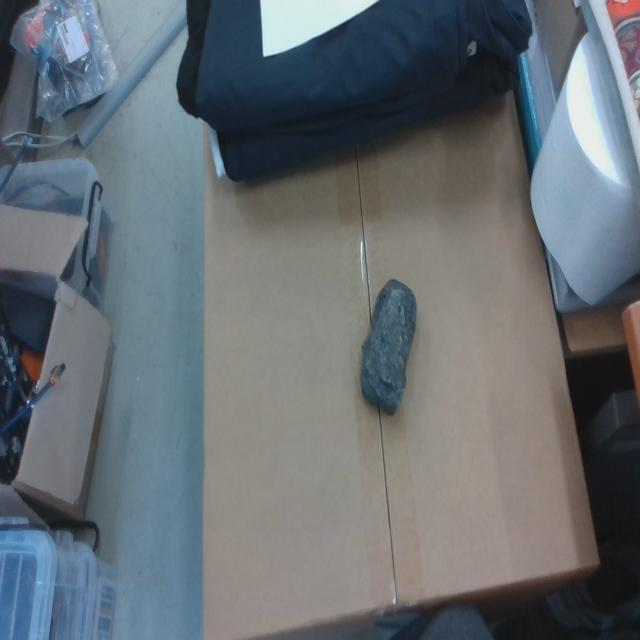stone: (360, 279, 417, 418)
